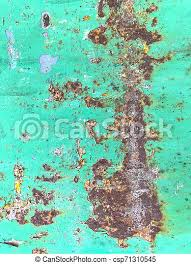rust: (85, 3, 173, 244), (23, 157, 65, 230), (44, 73, 105, 107), (39, 7, 52, 31)
